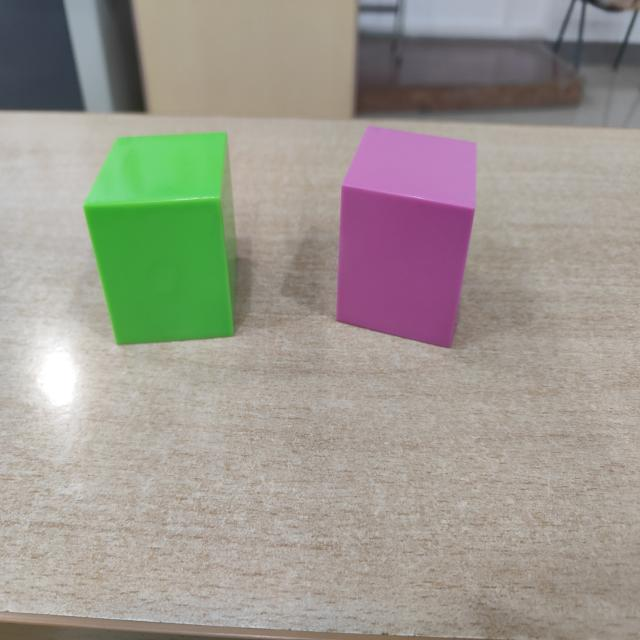green: (82, 132, 237, 348)
pink: (333, 126, 478, 350)
